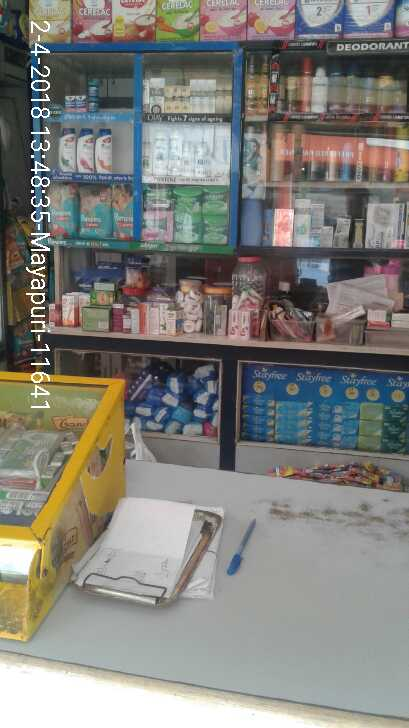vicks: (64, 82, 100, 114)
